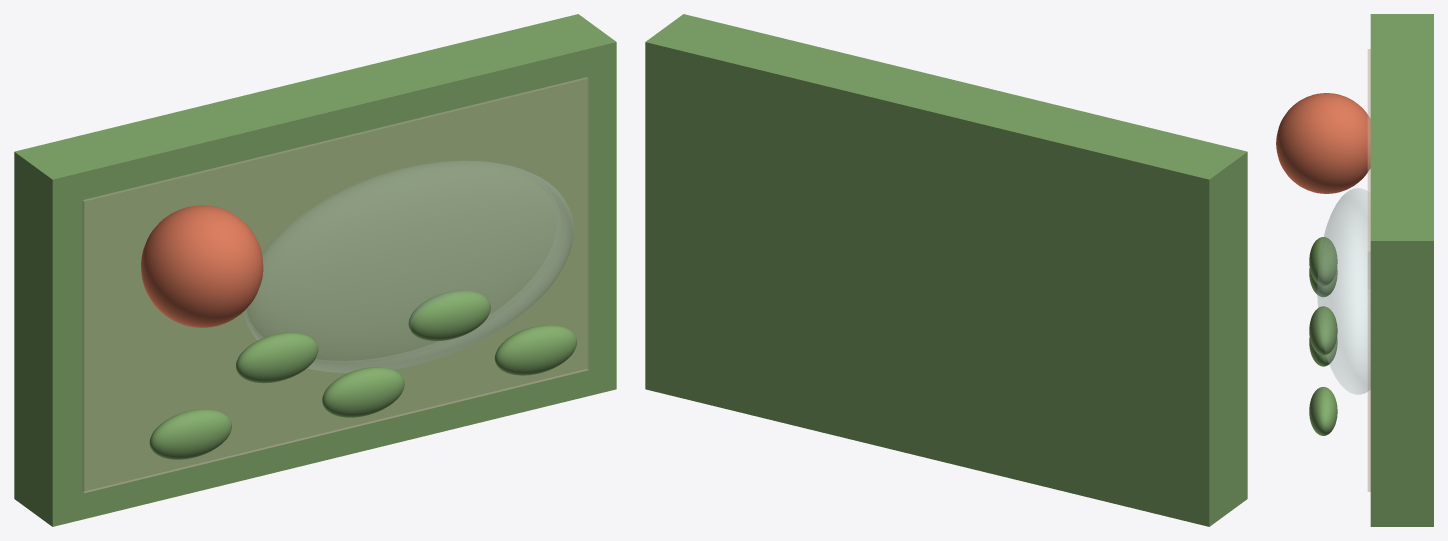
Rendered from plant-cell.glb.
3 renders of one model, left to right at view 1: azimuth 30°, elevation 25°; view 2: azimuth 150°, elevation 25°; view 3: azimuth 270°, elevation 25°, orthographic. The views are drawn at different scales.
Visible parts, largest first — view 1: cellulose-cell-wall, cell-membrane-under-wall, large-central-vacuole, nucleus, chloroplast-3, chloroplast-2, chloroplast-0, chloroplast-1, chloroplast-4; view 2: cellulose-cell-wall; view 3: cellulose-cell-wall, large-central-vacuole, nucleus, cell-membrane-under-wall, chloroplast-3, chloroplast-4, chloroplast-1, chloroplast-2, chloroplast-0.
Part boxes in pixels (x1,y1,x2,y2): cellulose-cell-wall: (14, 14, 616, 526); cell-membrane-under-wall: (82, 77, 588, 493); large-central-vacuole: (244, 161, 573, 372); nucleus: (141, 205, 263, 327); chloroplast-3: (408, 290, 490, 340); chloroplast-2: (322, 367, 404, 417); chloroplast-0: (149, 409, 231, 459); chloroplast-1: (236, 332, 318, 383); chloroplast-4: (494, 325, 576, 375); cellulose-cell-wall: (645, 14, 1247, 526); cellulose-cell-wall: (1370, 14, 1433, 526); large-central-vacuole: (1317, 188, 1370, 394); nucleus: (1276, 93, 1370, 193); cell-membrane-under-wall: (1367, 49, 1370, 491); chloroplast-3: (1309, 306, 1337, 355); chloroplast-4: (1309, 387, 1337, 435); chloroplast-1: (1309, 237, 1337, 285); chloroplast-2: (1309, 337, 1337, 366); chloroplast-0: (1309, 268, 1337, 297).
Size of what is drawn, in the model's own units: 1.7 by 1 by 0.5.
